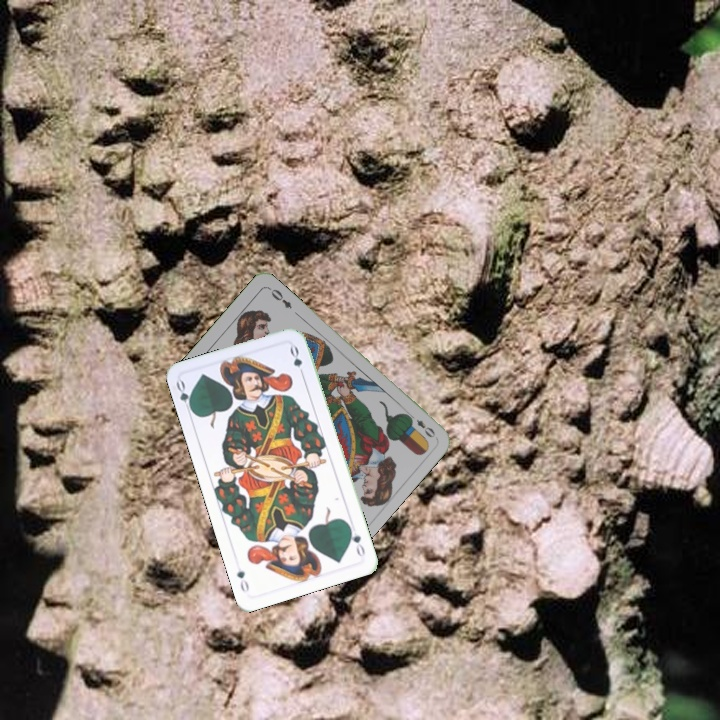EO: (404, 409, 438, 440)
GO: (172, 376, 196, 417), (345, 521, 368, 559)
